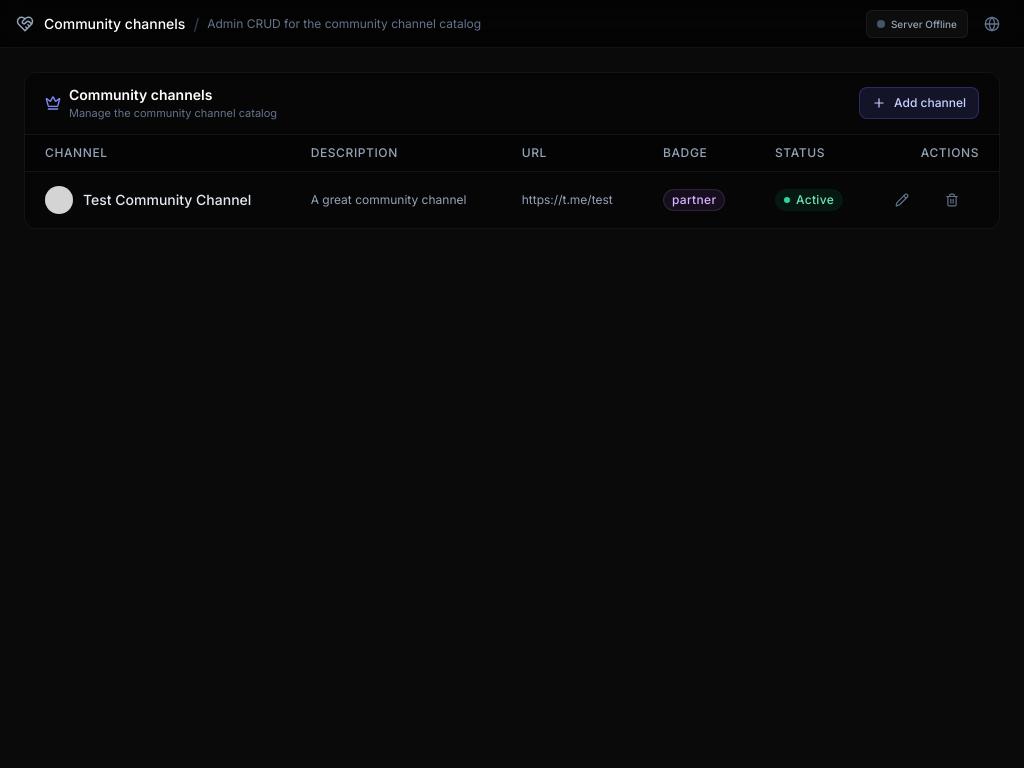
Test: PartnerChannels page › create button opens the form modal with the logo field
The width and height of the screenshot is (1024, 768).
Expected: the text "Test Community Channel" is shown, left=83, top=190, right=251, bottom=210
What coordinates should you click on to do the following:
click the button "Add channel"
I would click on:
 (919, 103)
Its box is left=859, top=87, right=979, bottom=119.
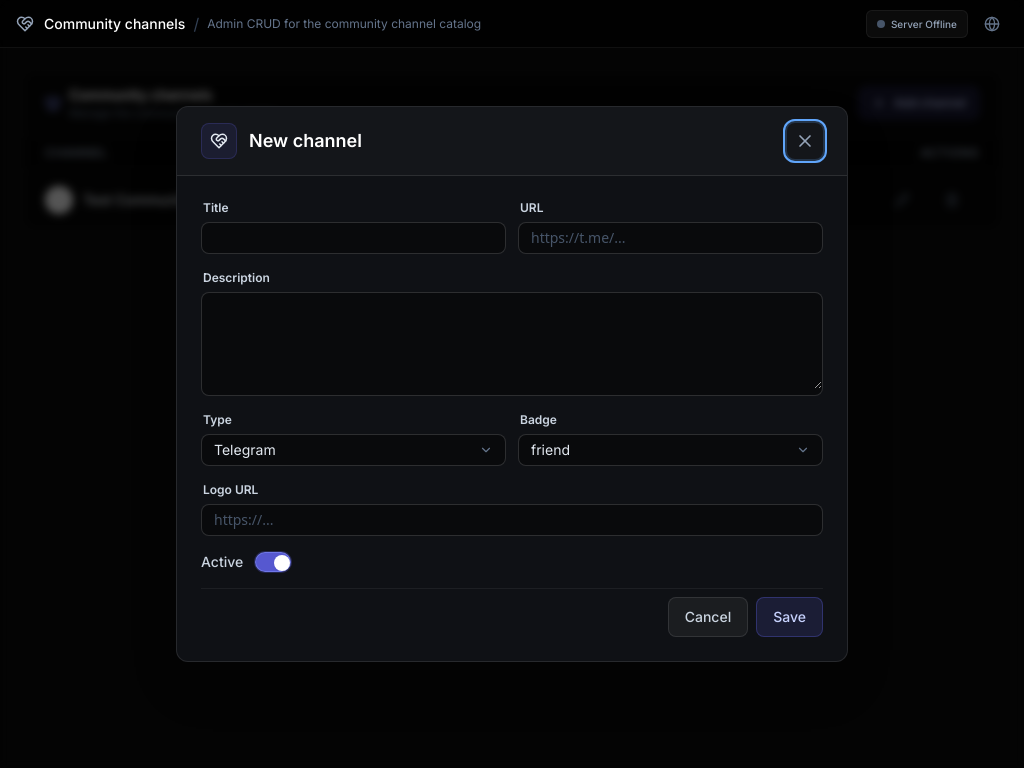
Expected: the heading "New channel" is shown, left=249, top=127, right=362, bottom=155
Expected: the field labelled "Logo URL" is shown, left=202, top=504, right=822, bottom=536
